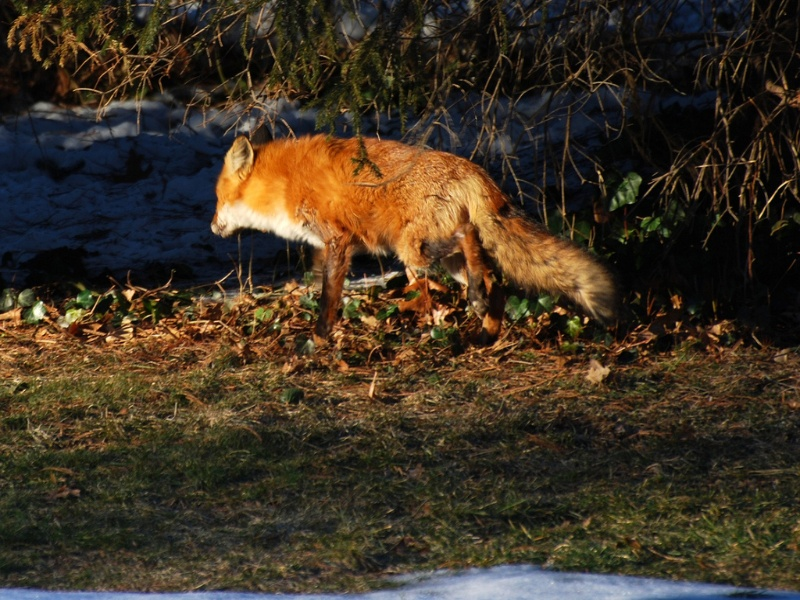fox: (208, 130, 622, 354)
